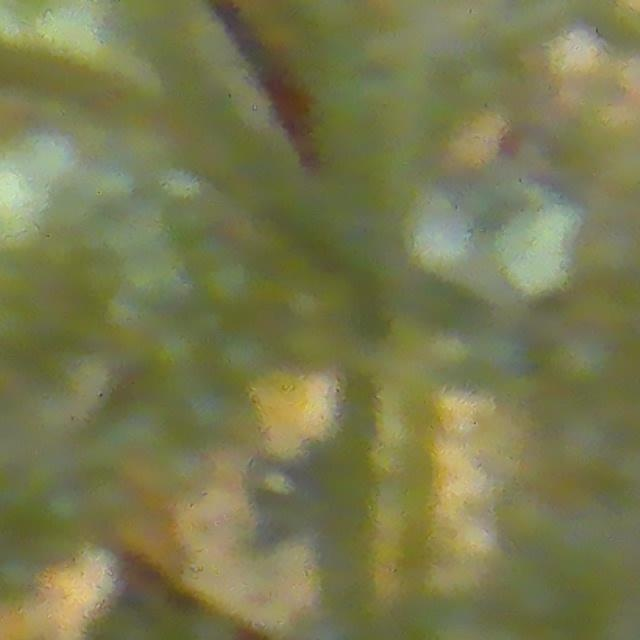SeaGrape: (548, 326, 621, 395)
